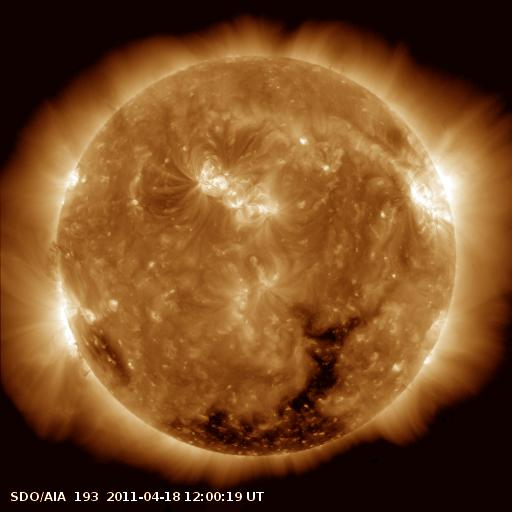coronal_hole: (165, 312, 368, 458), (85, 332, 134, 386)
